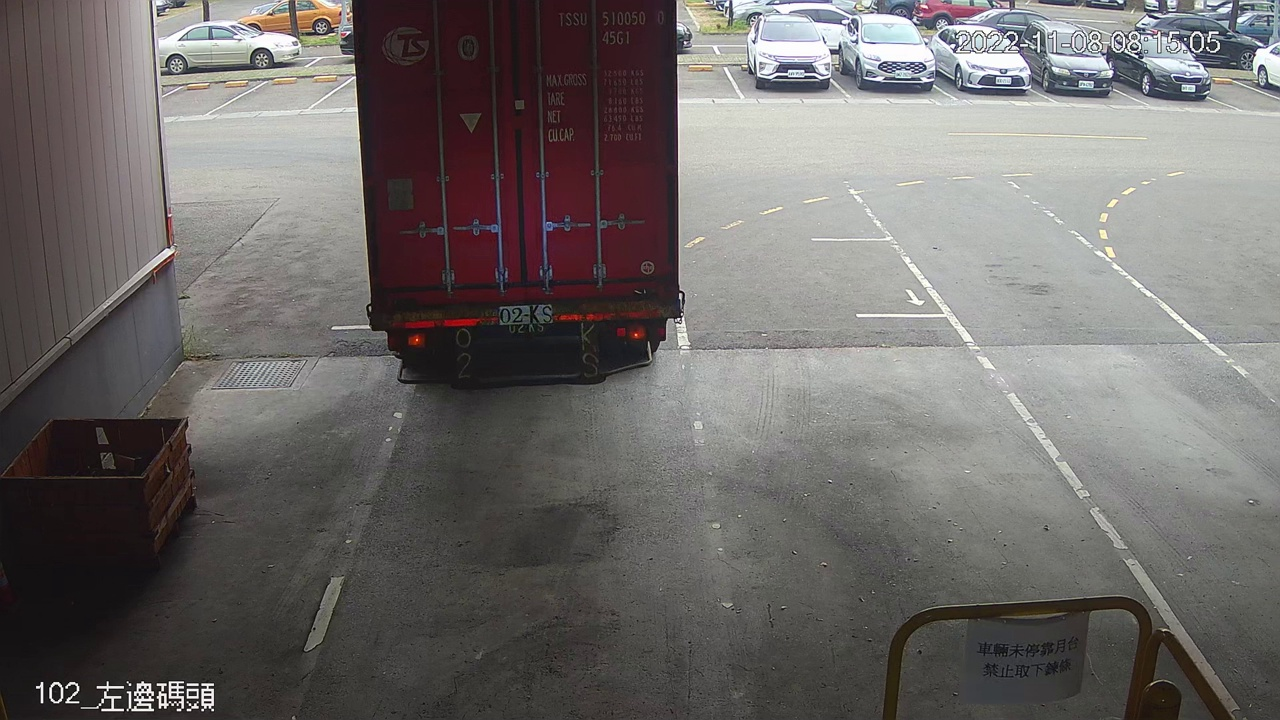container: (553, 5, 670, 50)
